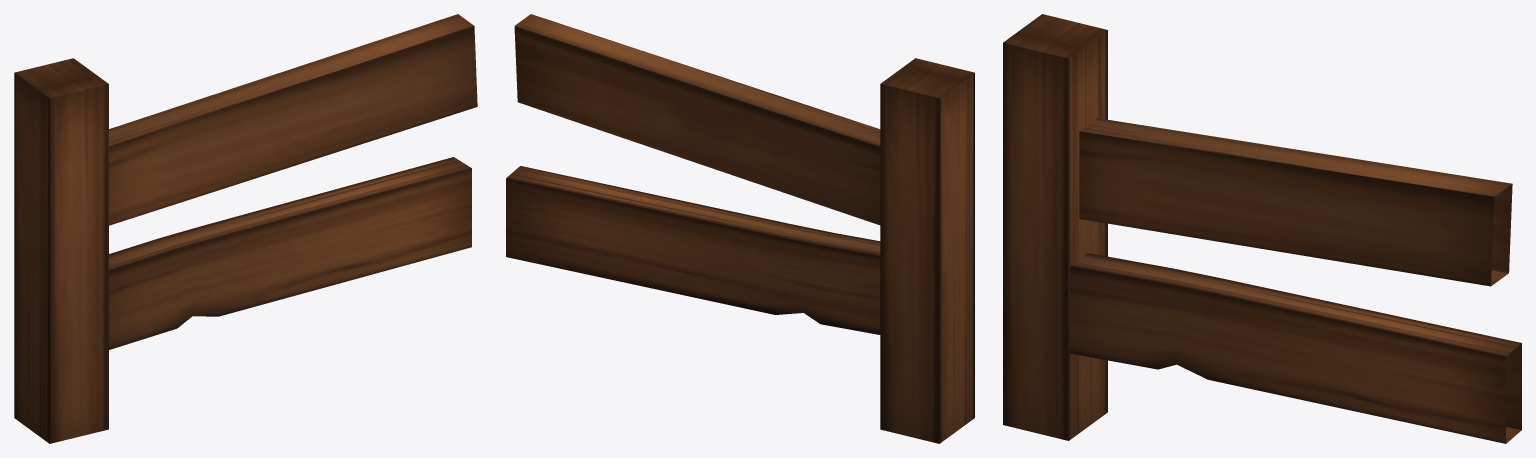
File: WoodenFence3.FBX
3 views of the same model, side by side, from view 1: azimuth 30°, elevation 25°; view 2: azimuth 150°, elevation 25°; view 3: azimuth 330°, elevation 25° (orthographic). The views are drawn at different scales.
Parts seen in each view (by area): view 1: Wooden Fence 3; view 2: Wooden Fence 3; view 3: Wooden Fence 3.
Boxes of the visible parts, bbox=[...] form: Wooden Fence 3: bbox=[14, 14, 477, 443]; Wooden Fence 3: bbox=[506, 14, 974, 443]; Wooden Fence 3: bbox=[1003, 14, 1521, 443].
Size of the model in its own units: 101 by 76 by 14.1.
